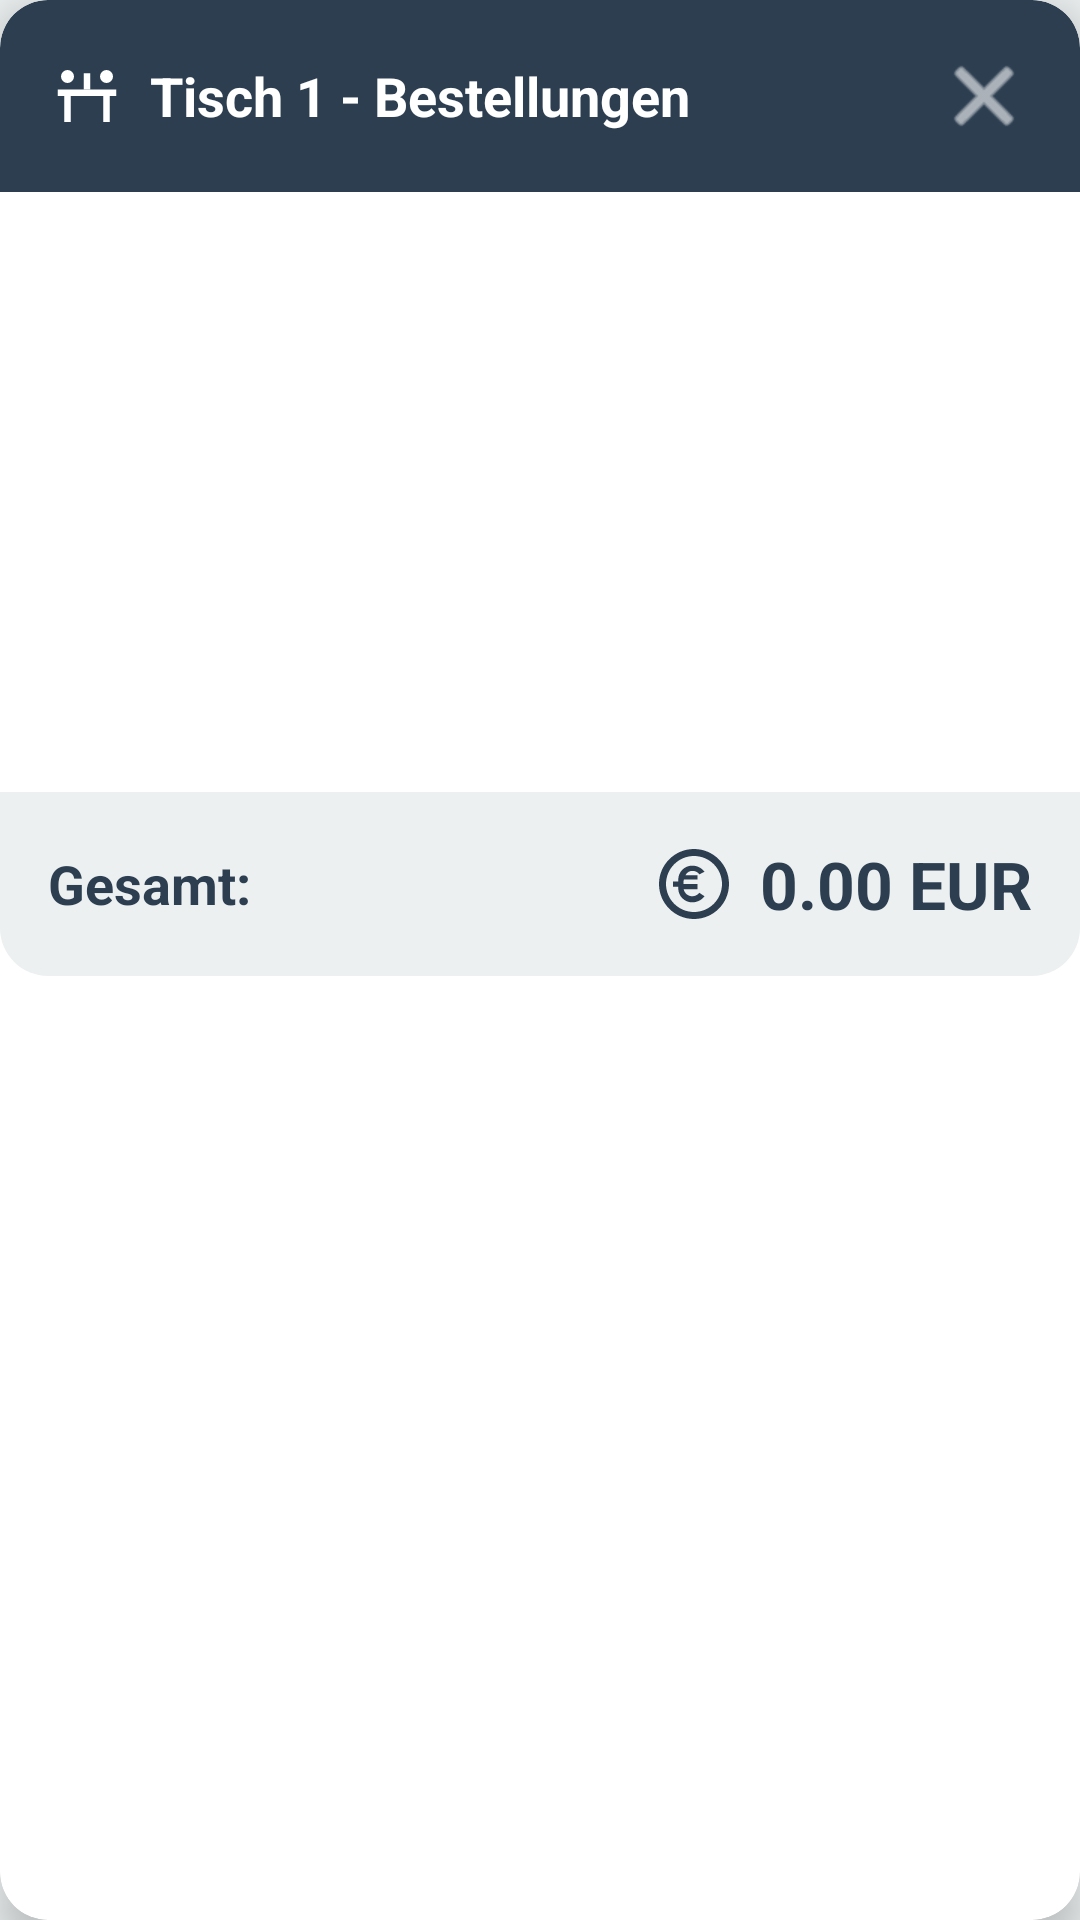

Icons on this 1080*1920 Android screen, each with its box as (x1, y1, x2, y2):
Close: (954, 66, 1014, 126)
Table: (57, 70, 117, 122)
